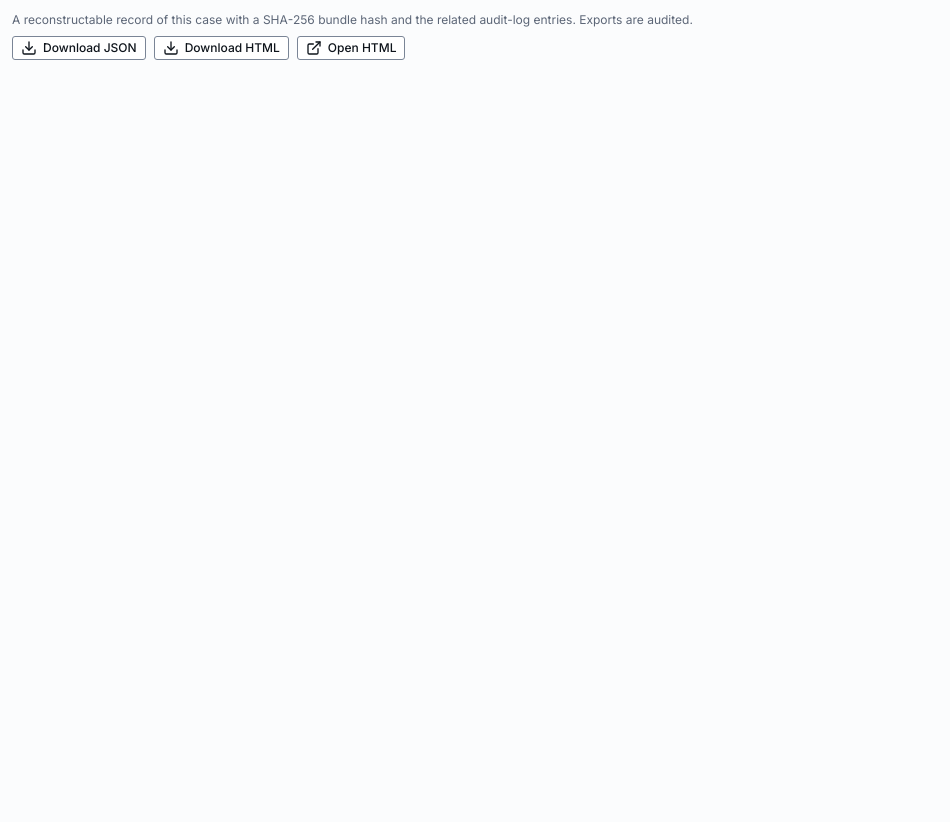
Test case: EvidenceActions › reports a failed export
Click the button "Download JSON" at (79, 48), box x1=12 y1=36 x2=146 y2=60
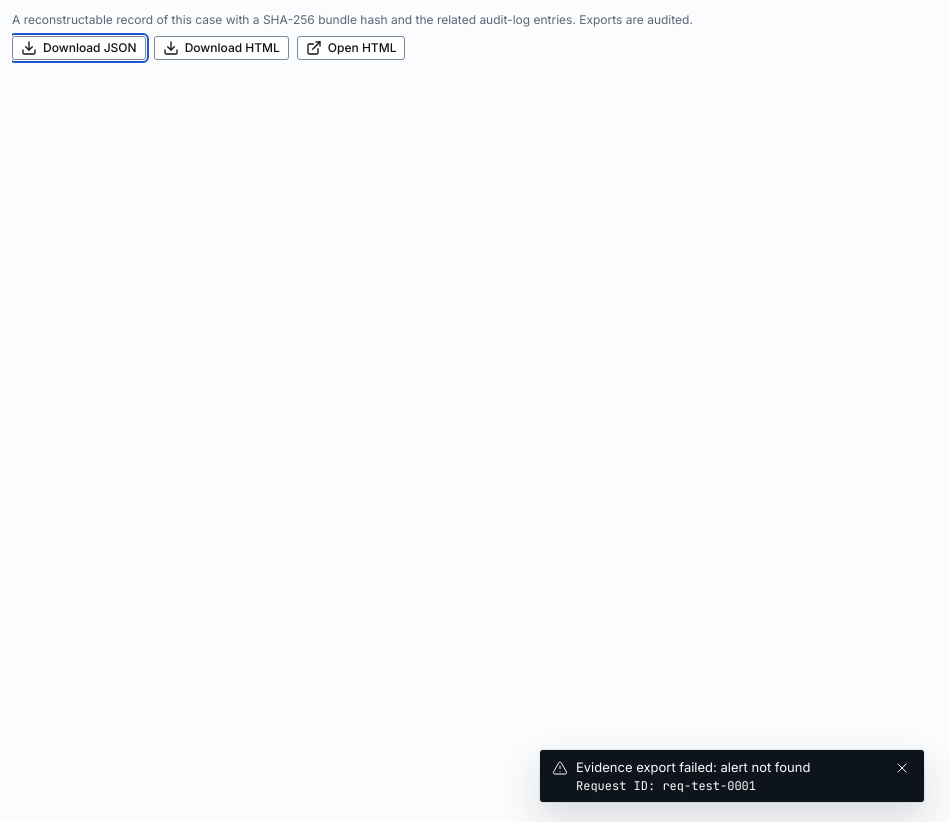
Check: the text "Evidence export failed: alert not found" is shown, box x1=576 y1=759 x2=810 y2=775
